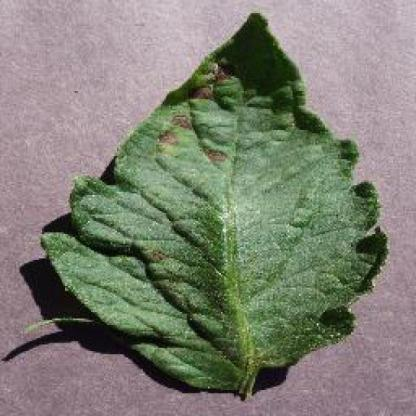Tomato_Blight: (47, 13, 385, 385)
